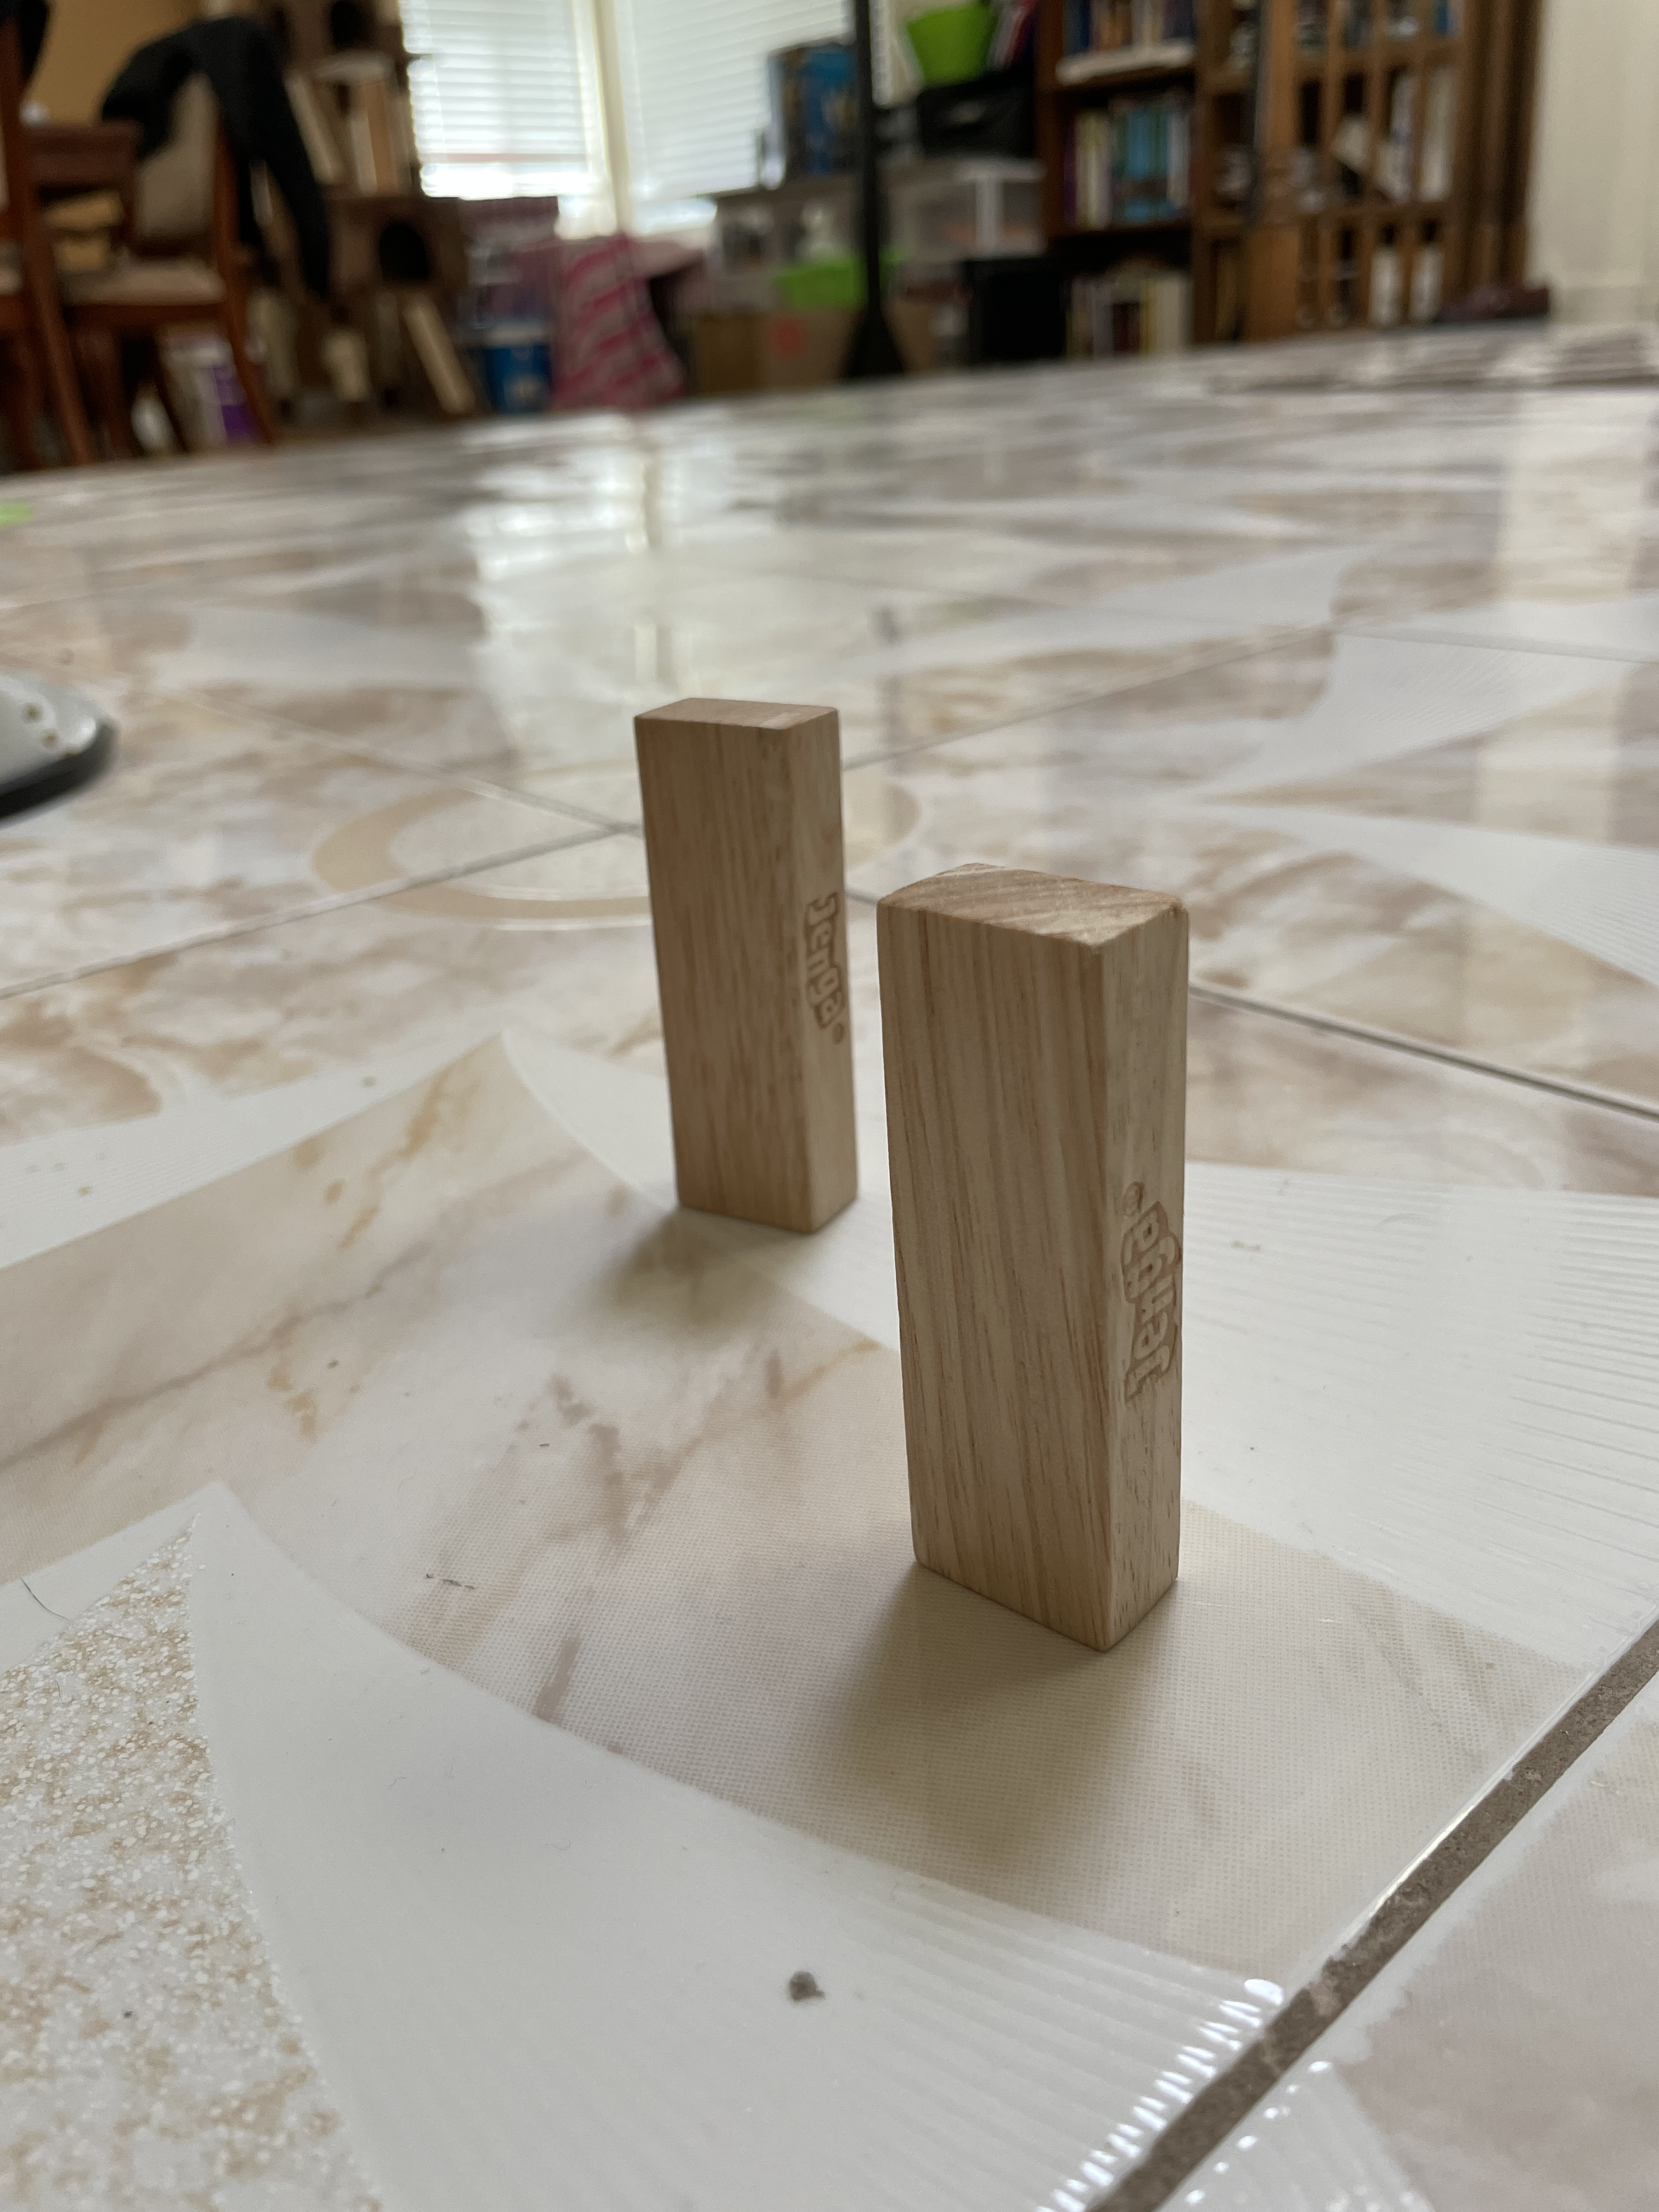jenga: (880, 850, 1209, 1648), (634, 698, 861, 1226)
